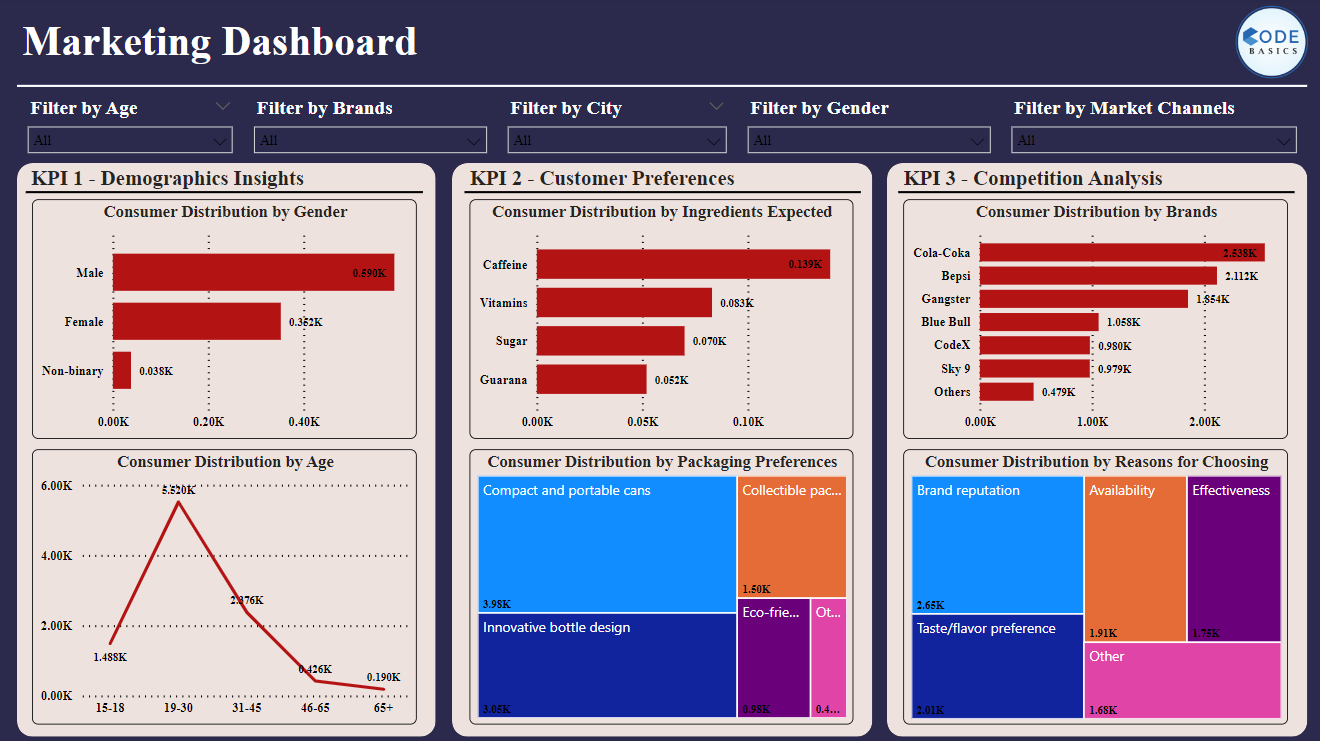

This screenshot's page, from the dashboard's own definition file:
{"tool":"powerbi","page":{"name":"Page 1","canvas":[1280,720],"ordinal":0},"visuals":[{"type":"slicer","fields":{"Values":["dim_cities.City"]},"box":[482.4,90.5,231.6,68.7],"z":0,"group":"g2"},{"type":"shape","box":[19.3,159.2,404,553.6],"z":0},{"type":"shape","box":[18.8,78.8,1245,12.5],"z":1000},{"type":"slicer","fields":{"Values":["dim_respondents.Gender"]},"box":[714,90.5,254.5,68.7],"z":1000,"group":"g2"},{"type":"slicer","fields":{"Values":["fact_survey_responses.Marketing_channels"]},"box":[968.4,90.5,295.5,68.7],"z":2000,"group":"g2"},{"type":"shape","box":[439,159.2,405.2,553.6],"z":2000},{"type":"image","box":[1179.5,0,100.1,85],"z":3000},{"type":"slicer","fields":{"Values":["fact_survey_responses.Current_brands"]},"box":[237.6,90.5,244.8,68.7],"z":3000,"group":"g2"},{"type":"shape","box":[858.7,159.2,405.2,553.6],"z":3000,"group":"g1"},{"type":"slicer","fields":{"Values":["dim_respondents.Age"]},"box":[19.3,90.5,218.3,68.7],"z":4000,"group":"g2"},{"type":"barChart","title":"Consumer Distribution by Gender","fields":{"Category":["dim_respondents.Gender"],"Y":["Key Measures.Total Respondents"]},"box":[33.8,193.9,371.5,231.1],"z":4000},{"type":"textbox","title":"Marketing Dashboard","box":[19.3,18.1,393.2,49.4],"z":5000},{"type":"lineChart","title":"Consumer Distribution by Age","fields":{"Category":["dim_respondents.Age"],"Y":["CountNonNull(fact_survey_responses.Response_ID)"]},"box":[33.8,435.4,371.5,265.8],"z":6000},{"type":"barChart","title":"Consumer Distribution by Ingredients Expected","fields":{"Category":["fact_survey_responses.Ingredients_expected"],"Y":["Key Measures.Total Respondents"]},"box":[455.9,193.9,370.3,231.1],"z":7000},{"type":"group","id":"g1","title":"Group 3","box":[858.7,159.2,405.2,553.6],"z":8000},{"type":"textbox","title":"KPI 1 - Demographics Insights","box":[27.7,162.7,299.1,25.4],"z":9000},{"type":"treemap","title":"Consumer Distribution by Packaging Preferences","fields":{"Group":["fact_survey_responses.Packaging_preference"],"Values":["CountNonNull(fact_survey_responses.Response_ID)"]},"box":[455.9,435.4,370.3,265.3],"z":10000},{"type":"textbox","title":"KPI 2 - Customer Preferences","box":[451.1,162.7,300.3,25.4],"z":11000},{"type":"shape","box":[27.7,181.2,383.5,12.7],"z":12000},{"type":"textbox","title":"KPI 3 - Competition Analysis","box":[869.6,162.7,300,25.4],"z":13000,"group":"g1"},{"type":"shape","box":[451.1,181.2,382.3,12.7],"z":13000},{"type":"shape","box":[869.6,181.2,382.2,12.7],"z":15000,"group":"g1"},{"type":"barChart","title":"Consumer Distribution by Brands","fields":{"Category":["fact_survey_responses.Current_brands"],"Y":["CountNonNull(fact_survey_responses.Response_ID)"]},"box":[874.4,193.9,371.4,231.1],"z":16000,"group":"g1"},{"type":"group","id":"g2","title":"Group 1","box":[19.3,90.5,1244.6,68.7],"z":16003},{"type":"treemap","title":"Consumer Distribution by Reasons for Choosing","fields":{"Group":["fact_survey_responses.Reasons_for_choosing_brands"],"Values":["CountNonNull(fact_survey_responses.Current_brands)"]},"box":[874.4,435.4,371.4,265.8],"z":17000,"group":"g1"}]}

Visuals, with their boxes in screenshot pixels (x1, y1, x2, y2), scaled from the page's 1280x720 canvas onto the 1320x741 screenshot:
slicer - dim_cities.City: 497, 93, 736, 164
shape: 20, 164, 437, 734
shape: 19, 81, 1303, 94
slicer - dim_respondents.Gender: 736, 93, 999, 164
slicer - fact_survey_responses.Marketing_channels: 999, 93, 1303, 164
shape: 453, 164, 871, 734
image: 1216, 0, 1319, 87
slicer - fact_survey_responses.Current_brands: 245, 93, 497, 164
shape: 886, 164, 1303, 734
slicer - dim_respondents.Age: 20, 93, 245, 164
"Consumer Distribution by Gender" barChart: 35, 200, 418, 437
"Marketing Dashboard" textbox: 20, 19, 425, 69
"Consumer Distribution by Age" lineChart: 35, 448, 418, 722
"Consumer Distribution by Ingredients Expected" barChart: 470, 200, 852, 437
"Group 3" group: 886, 164, 1303, 734
"KPI 1 - Demographics Insights" textbox: 29, 167, 337, 194
"Consumer Distribution by Packaging Preferences" treemap: 470, 448, 852, 721
"KPI 2 - Customer Preferences" textbox: 465, 167, 775, 194
shape: 29, 186, 424, 200
"KPI 3 - Competition Analysis" textbox: 897, 167, 1206, 194
shape: 465, 186, 859, 200
shape: 897, 186, 1291, 200
"Consumer Distribution by Brands" barChart: 902, 200, 1285, 437
"Group 1" group: 20, 93, 1303, 164
"Consumer Distribution by Reasons for Choosing" treemap: 902, 448, 1285, 722
